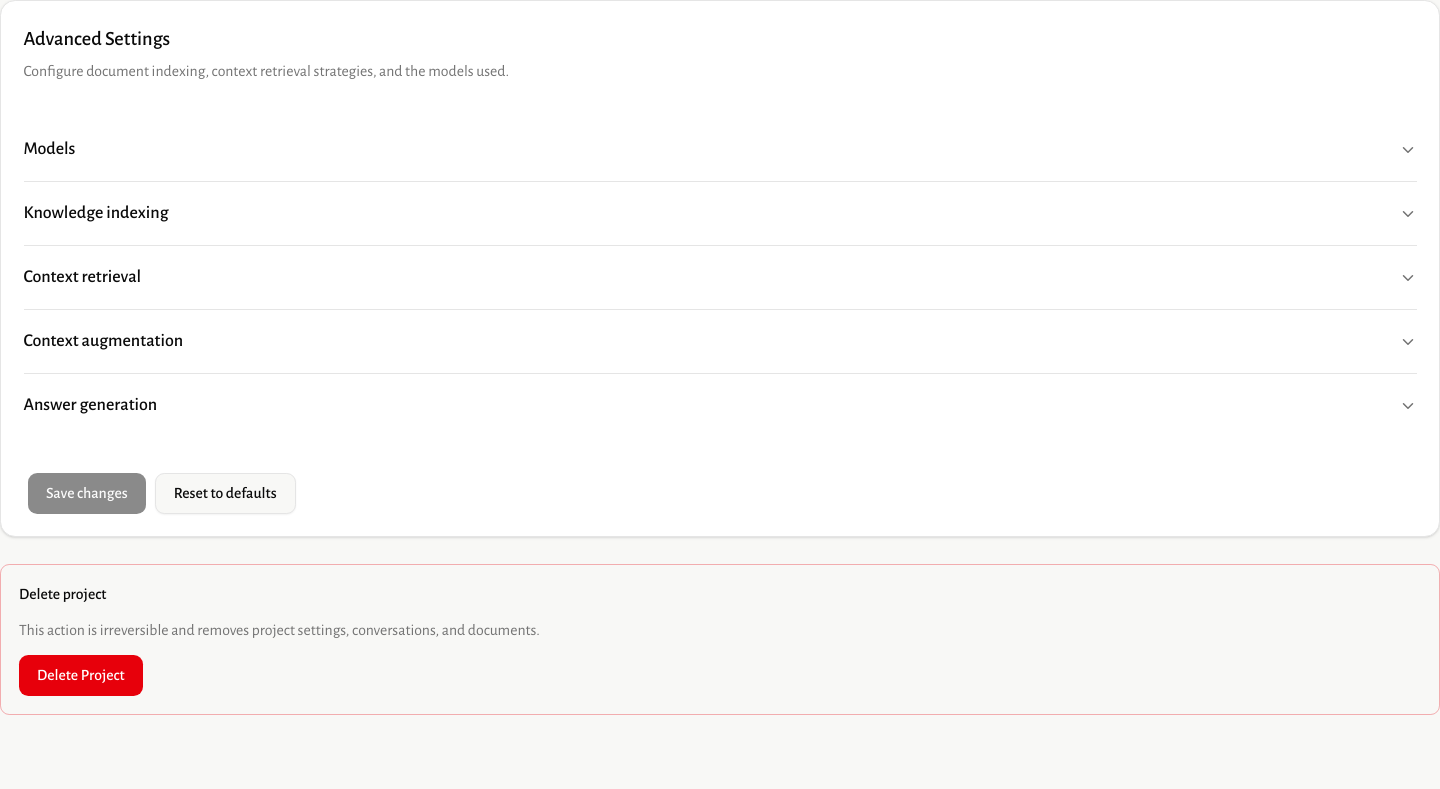
Test case: ProjectAdvancedPanel – field values inheritance › Knowledge indexing — Parent-child chunking switch › shows project value true even if user has false
The width and height of the screenshot is (1440, 789).
What coordinates should you click on to do the following:
click the button "Knowledge indexing"
I would click on:
 (96, 213)
Its box is [24,182,1416,245].
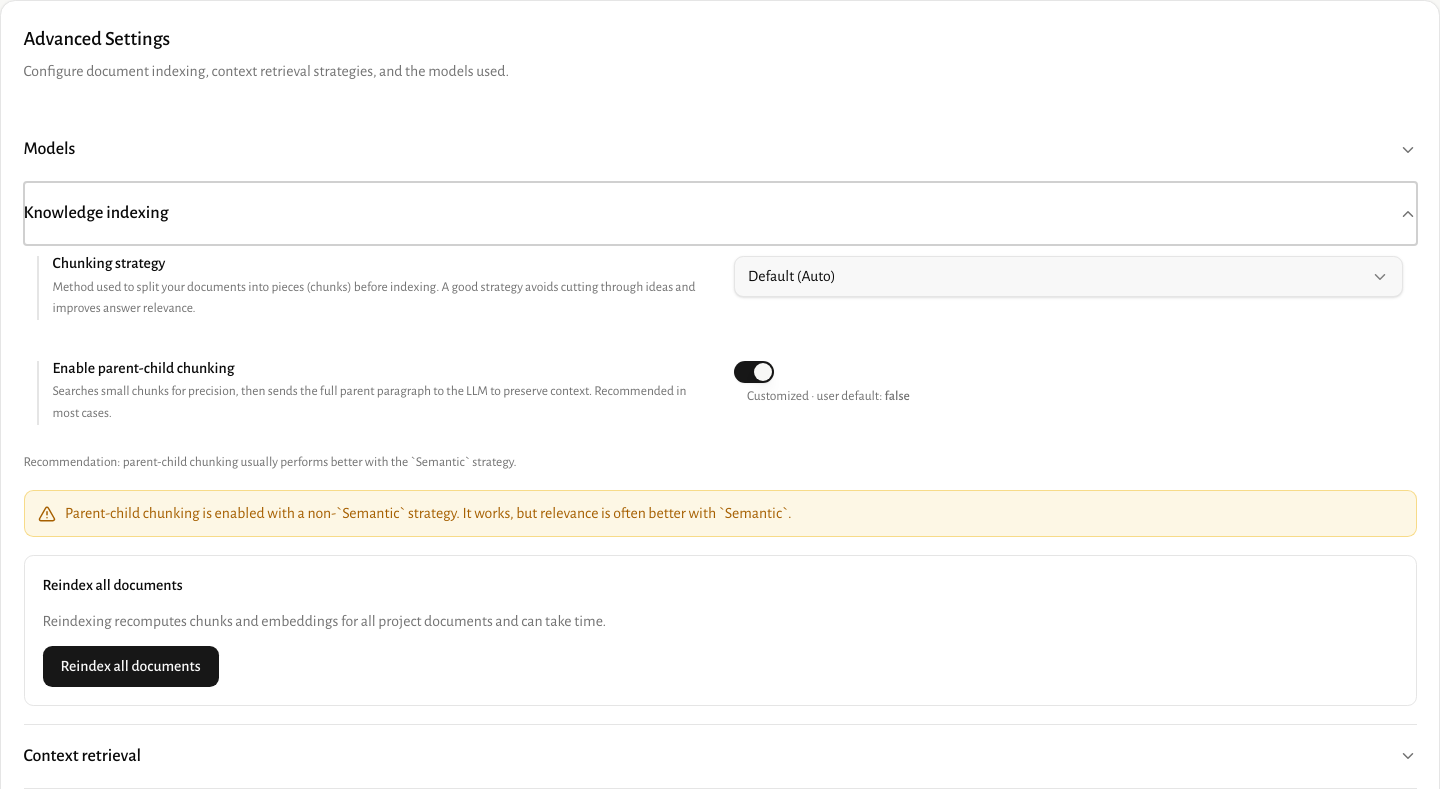
Result: the switch named "parent-child chunking" is checked at [734,361,774,383]
